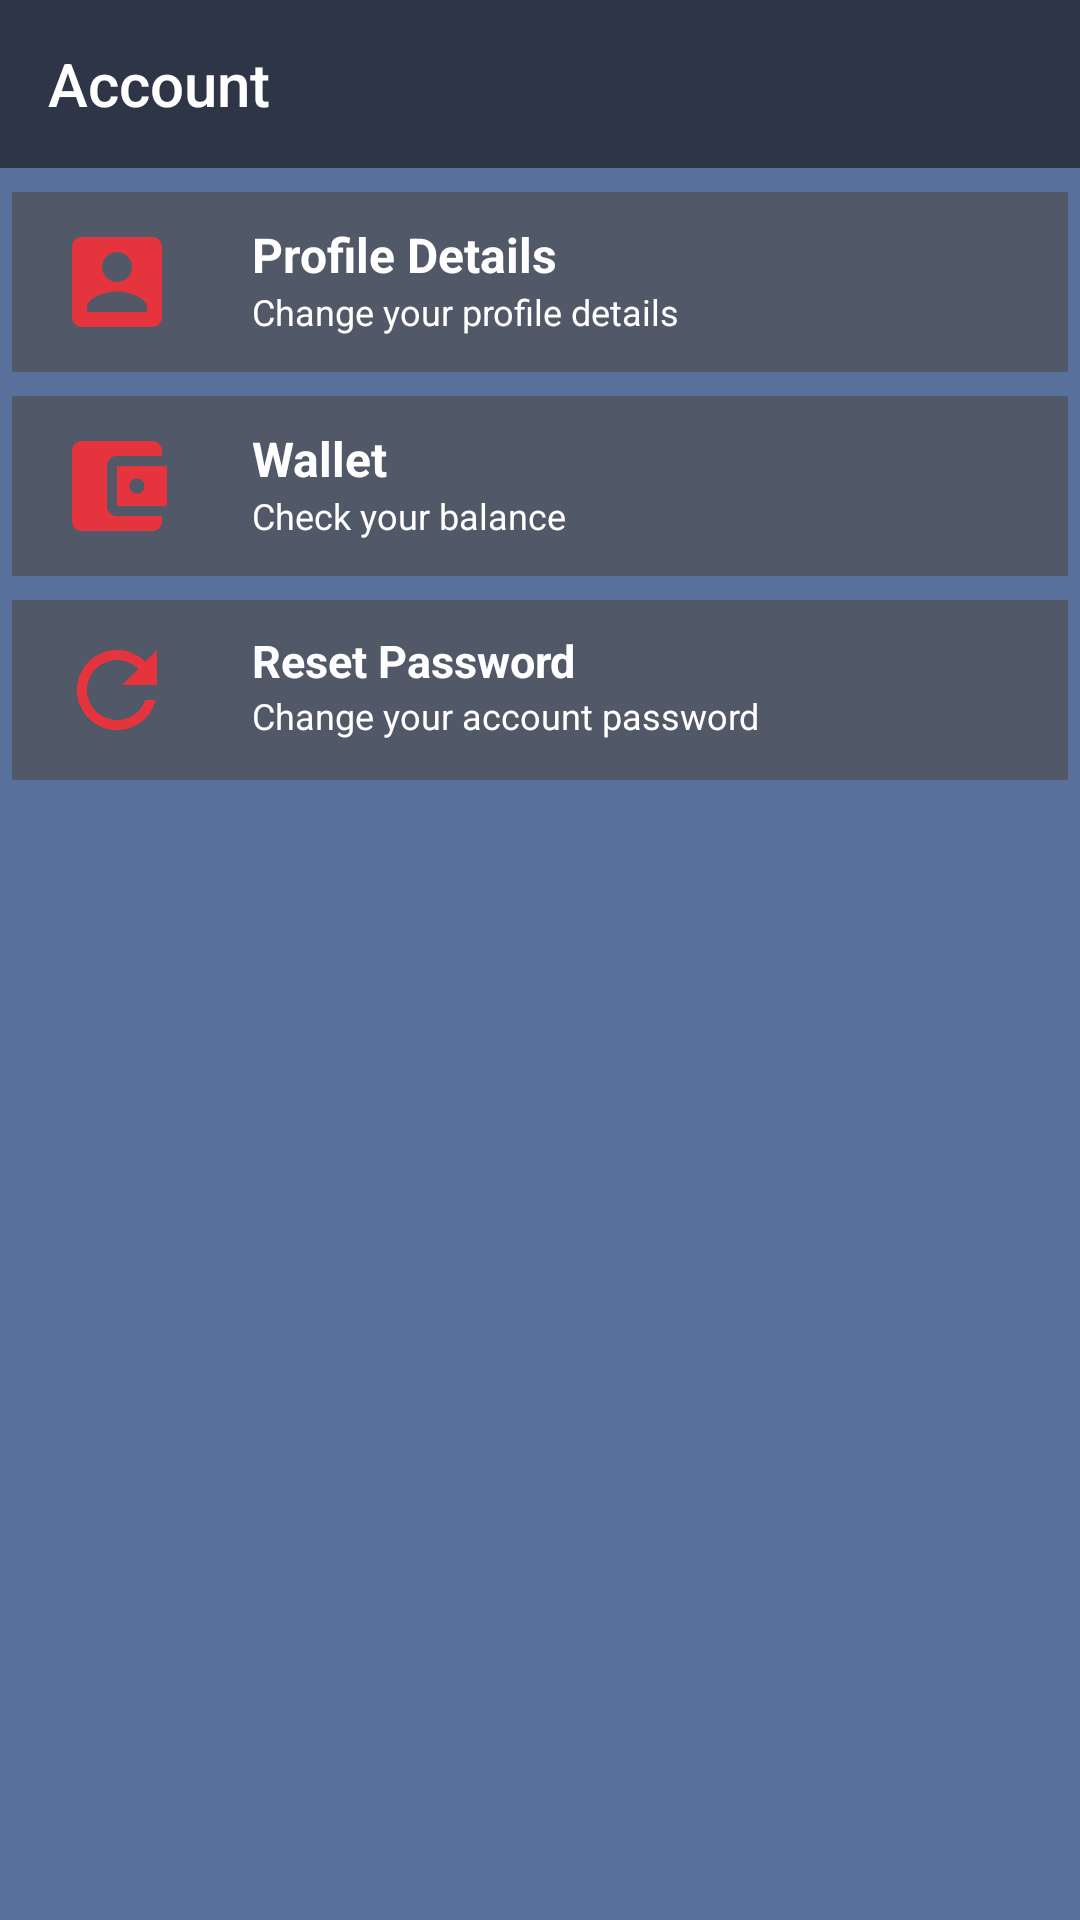

Named icons in this screenshot (1080*1920) and their bounding boxes, (x1, y1, x2, y2):
refresh: (77, 650, 157, 730)
